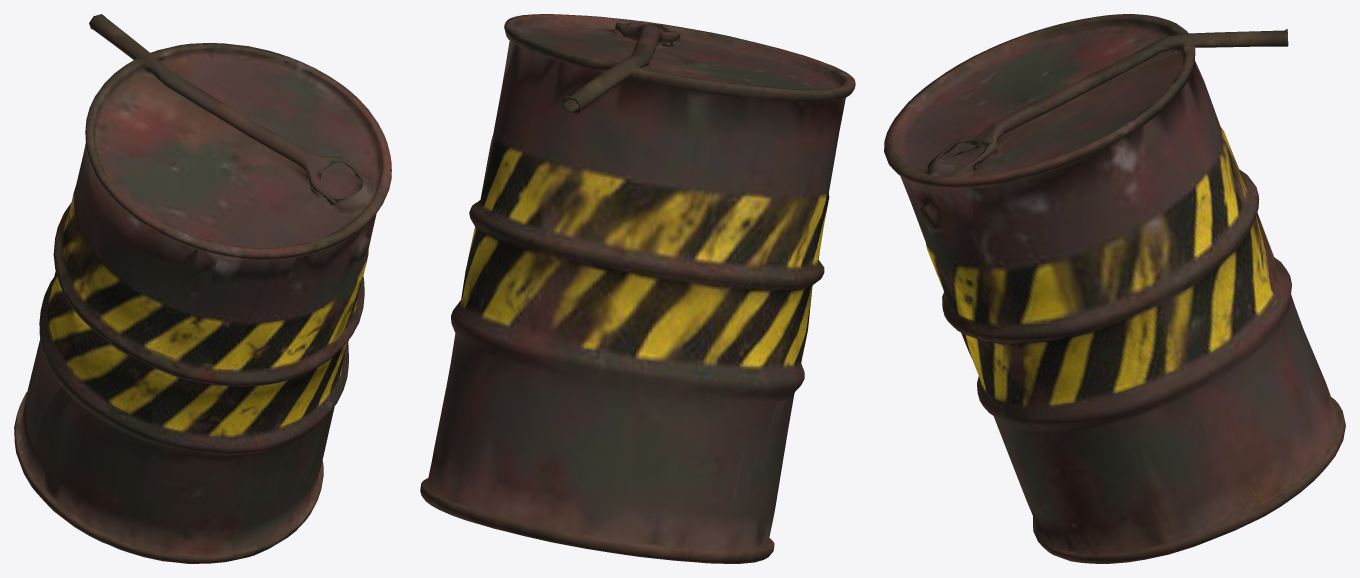
Rendered from drum.glb.
3 renders of one model, left to right at view 1: azimuth 30°, elevation 25°; view 2: azimuth 150°, elevation 25°; view 3: azimuth 270°, elevation 25°, orthographic. The views are drawn at different scales.
Visible parts, largest first — view 1: RETOPO; view 2: RETOPO; view 3: RETOPO.
Part boxes in pixels (x1,y1,x2,y2): RETOPO: (14, 14, 391, 563); RETOPO: (420, 14, 855, 563); RETOPO: (884, 14, 1345, 563).
Size of the model in its own units: 0.5688 by 0.9147 by 0.7837.
1 material, 1 textured.
